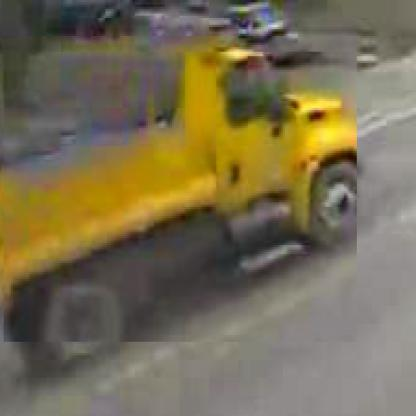truck: (3, 53, 358, 345)
